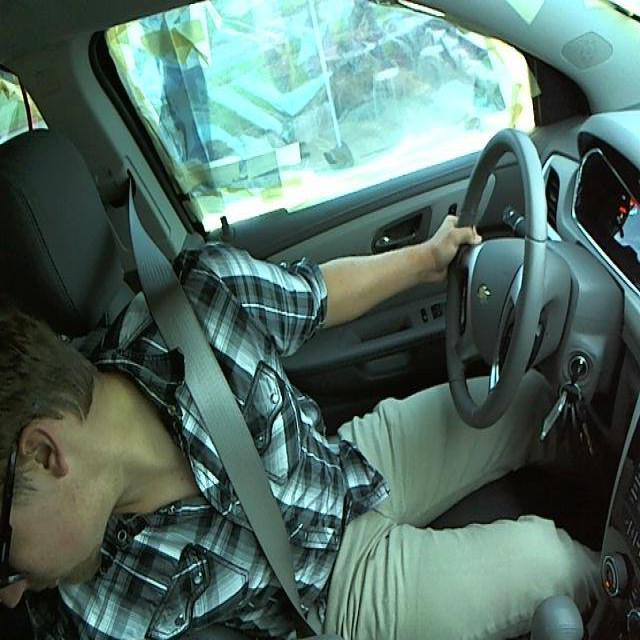seatbelt: (132, 281, 326, 635)
